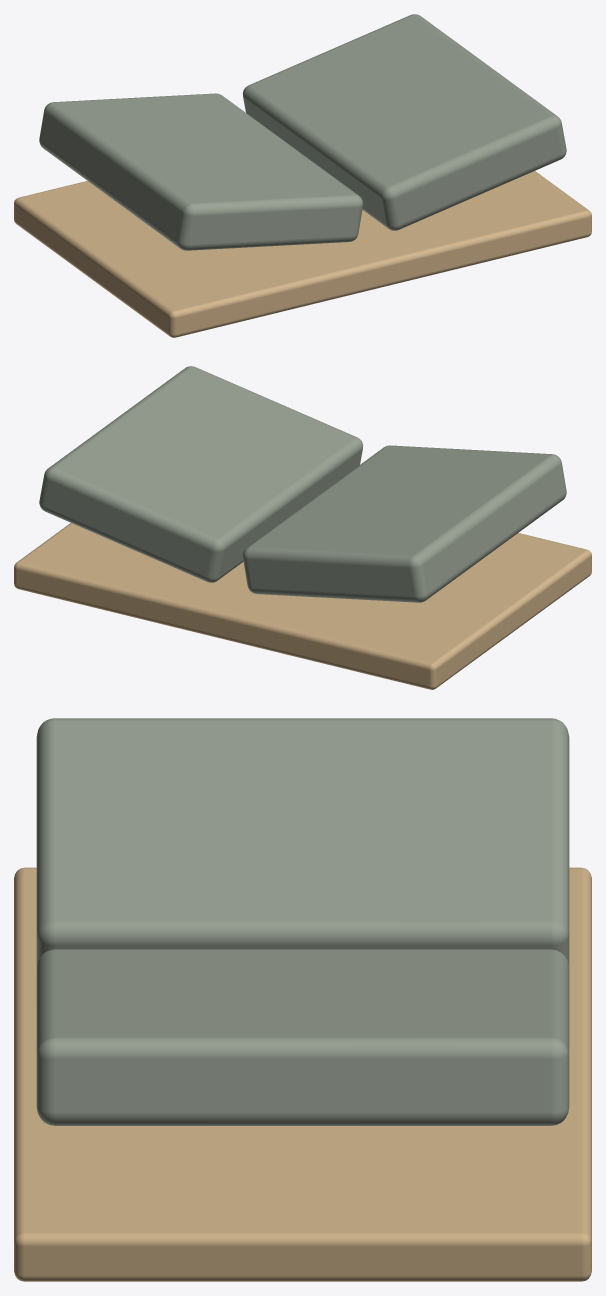
File: bookbinding-and-paper-mill-book-cradle-b1765951__30580.glb
3 renders of one model, top to bottom at view 1: azimuth 30°, elevation 25°; view 2: azimuth 150°, elevation 25°; view 3: azimuth 270°, elevation 25°, orthographic. The views are drawn at different scales.
Visible parts, largest first — view 1: book-cradle; view 2: book-cradle; view 3: book-cradle.
Part boxes in pixels (<box>): book-cradle: <box>14,14,591,337</box>; book-cradle: <box>14,366,591,689</box>; book-cradle: <box>14,718,591,1281</box>.
Bounding box in the file's own units: 0.58 × 0.1593 × 0.38.
